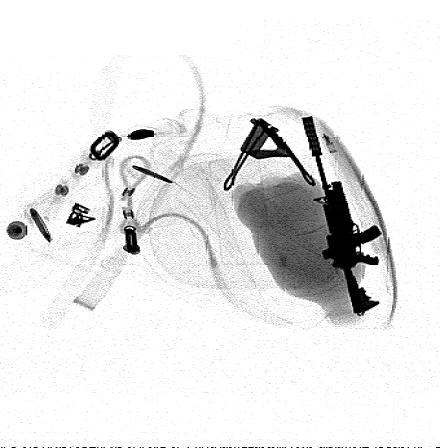Gun: (302, 115, 384, 315)
